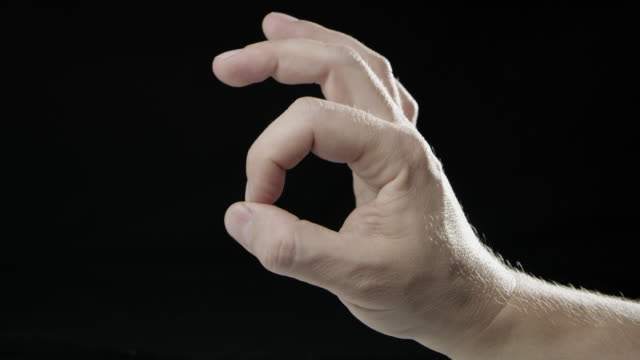oksign: (212, 14, 459, 341)
